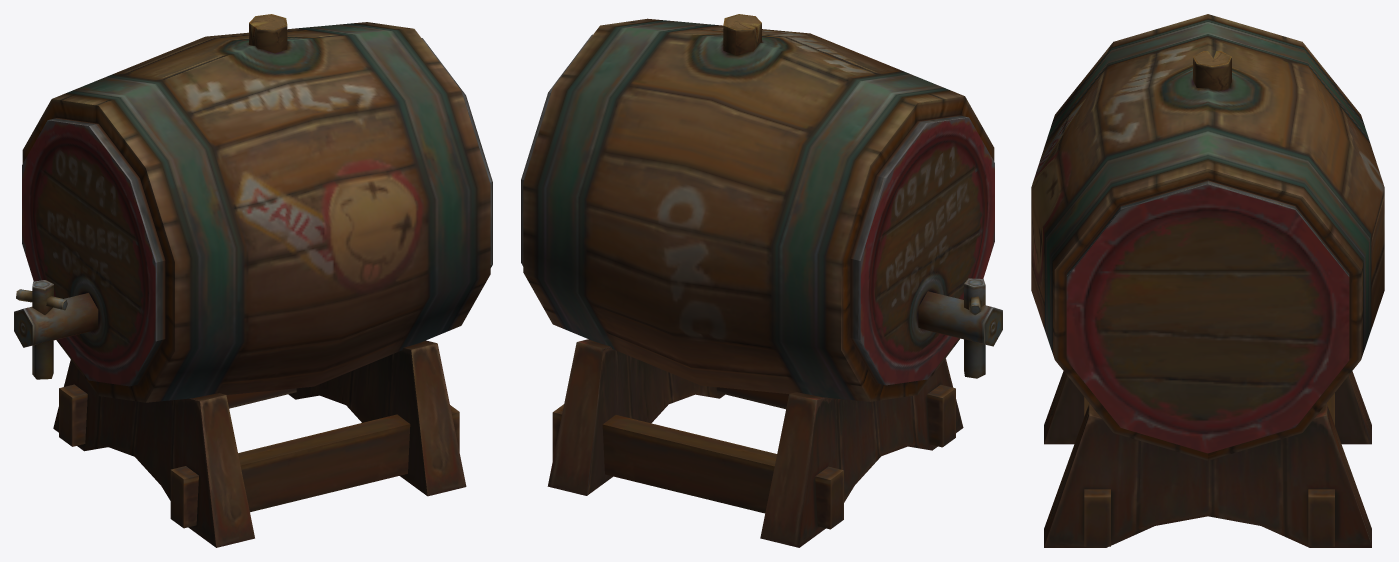
The model's file is BeerBarrel.FBX.
3 renders of one model, left to right at view 1: azimuth 30°, elevation 25°; view 2: azimuth 150°, elevation 25°; view 3: azimuth 270°, elevation 25°, orthographic.
Visible parts, largest first — view 1: BeerBarrel; view 2: BeerBarrel; view 3: BeerBarrel.
Part boxes in pixels (x1,y1,x2,y2): BeerBarrel: (14,14,492,547); BeerBarrel: (521,14,1002,547); BeerBarrel: (1031,14,1384,547).
Bounding box in the file's own units: 1.44 × 1.48 × 1.09.
1 material, 1 textured.
